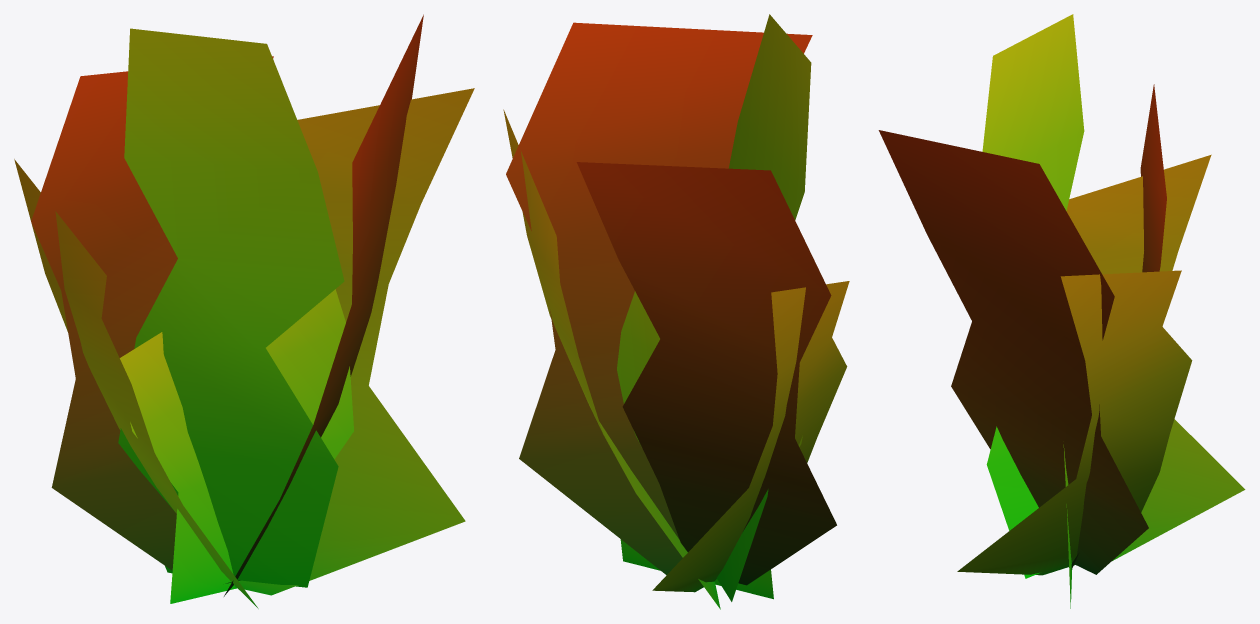
File: Var8Hi48.fbx
The picture shows the model from 3 angles, left to right: view 1: azimuth 30°, elevation 25°; view 2: azimuth 150°, elevation 25°; view 3: azimuth 270°, elevation 25°; orthographic projection. The views are drawn at different scales.
Parts seen in each view (by area): view 1: bend1; view 2: bend1; view 3: bend1.
Boxes of the visible parts, bbox=[...] form: bend1: bbox=[14, 14, 474, 608]; bend1: bbox=[503, 14, 849, 609]; bend1: bbox=[878, 14, 1245, 608].
Size of the model in its own units: 1.26 by 1.77 by 1.15.
